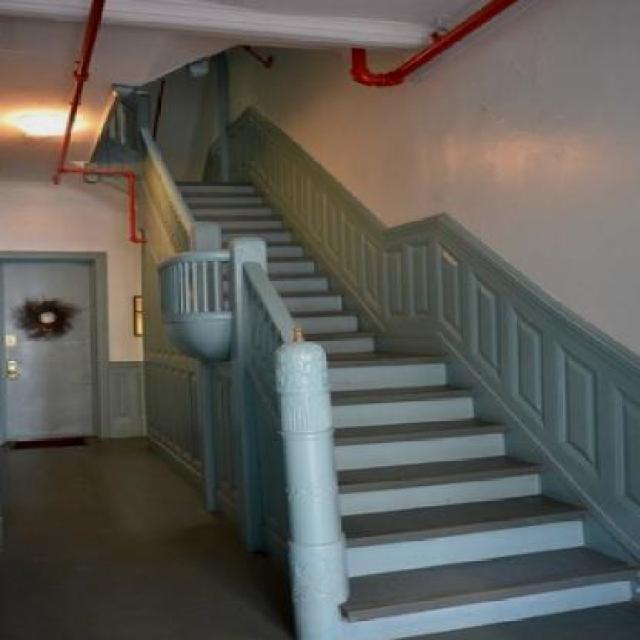stair: (68, 114, 638, 638)
